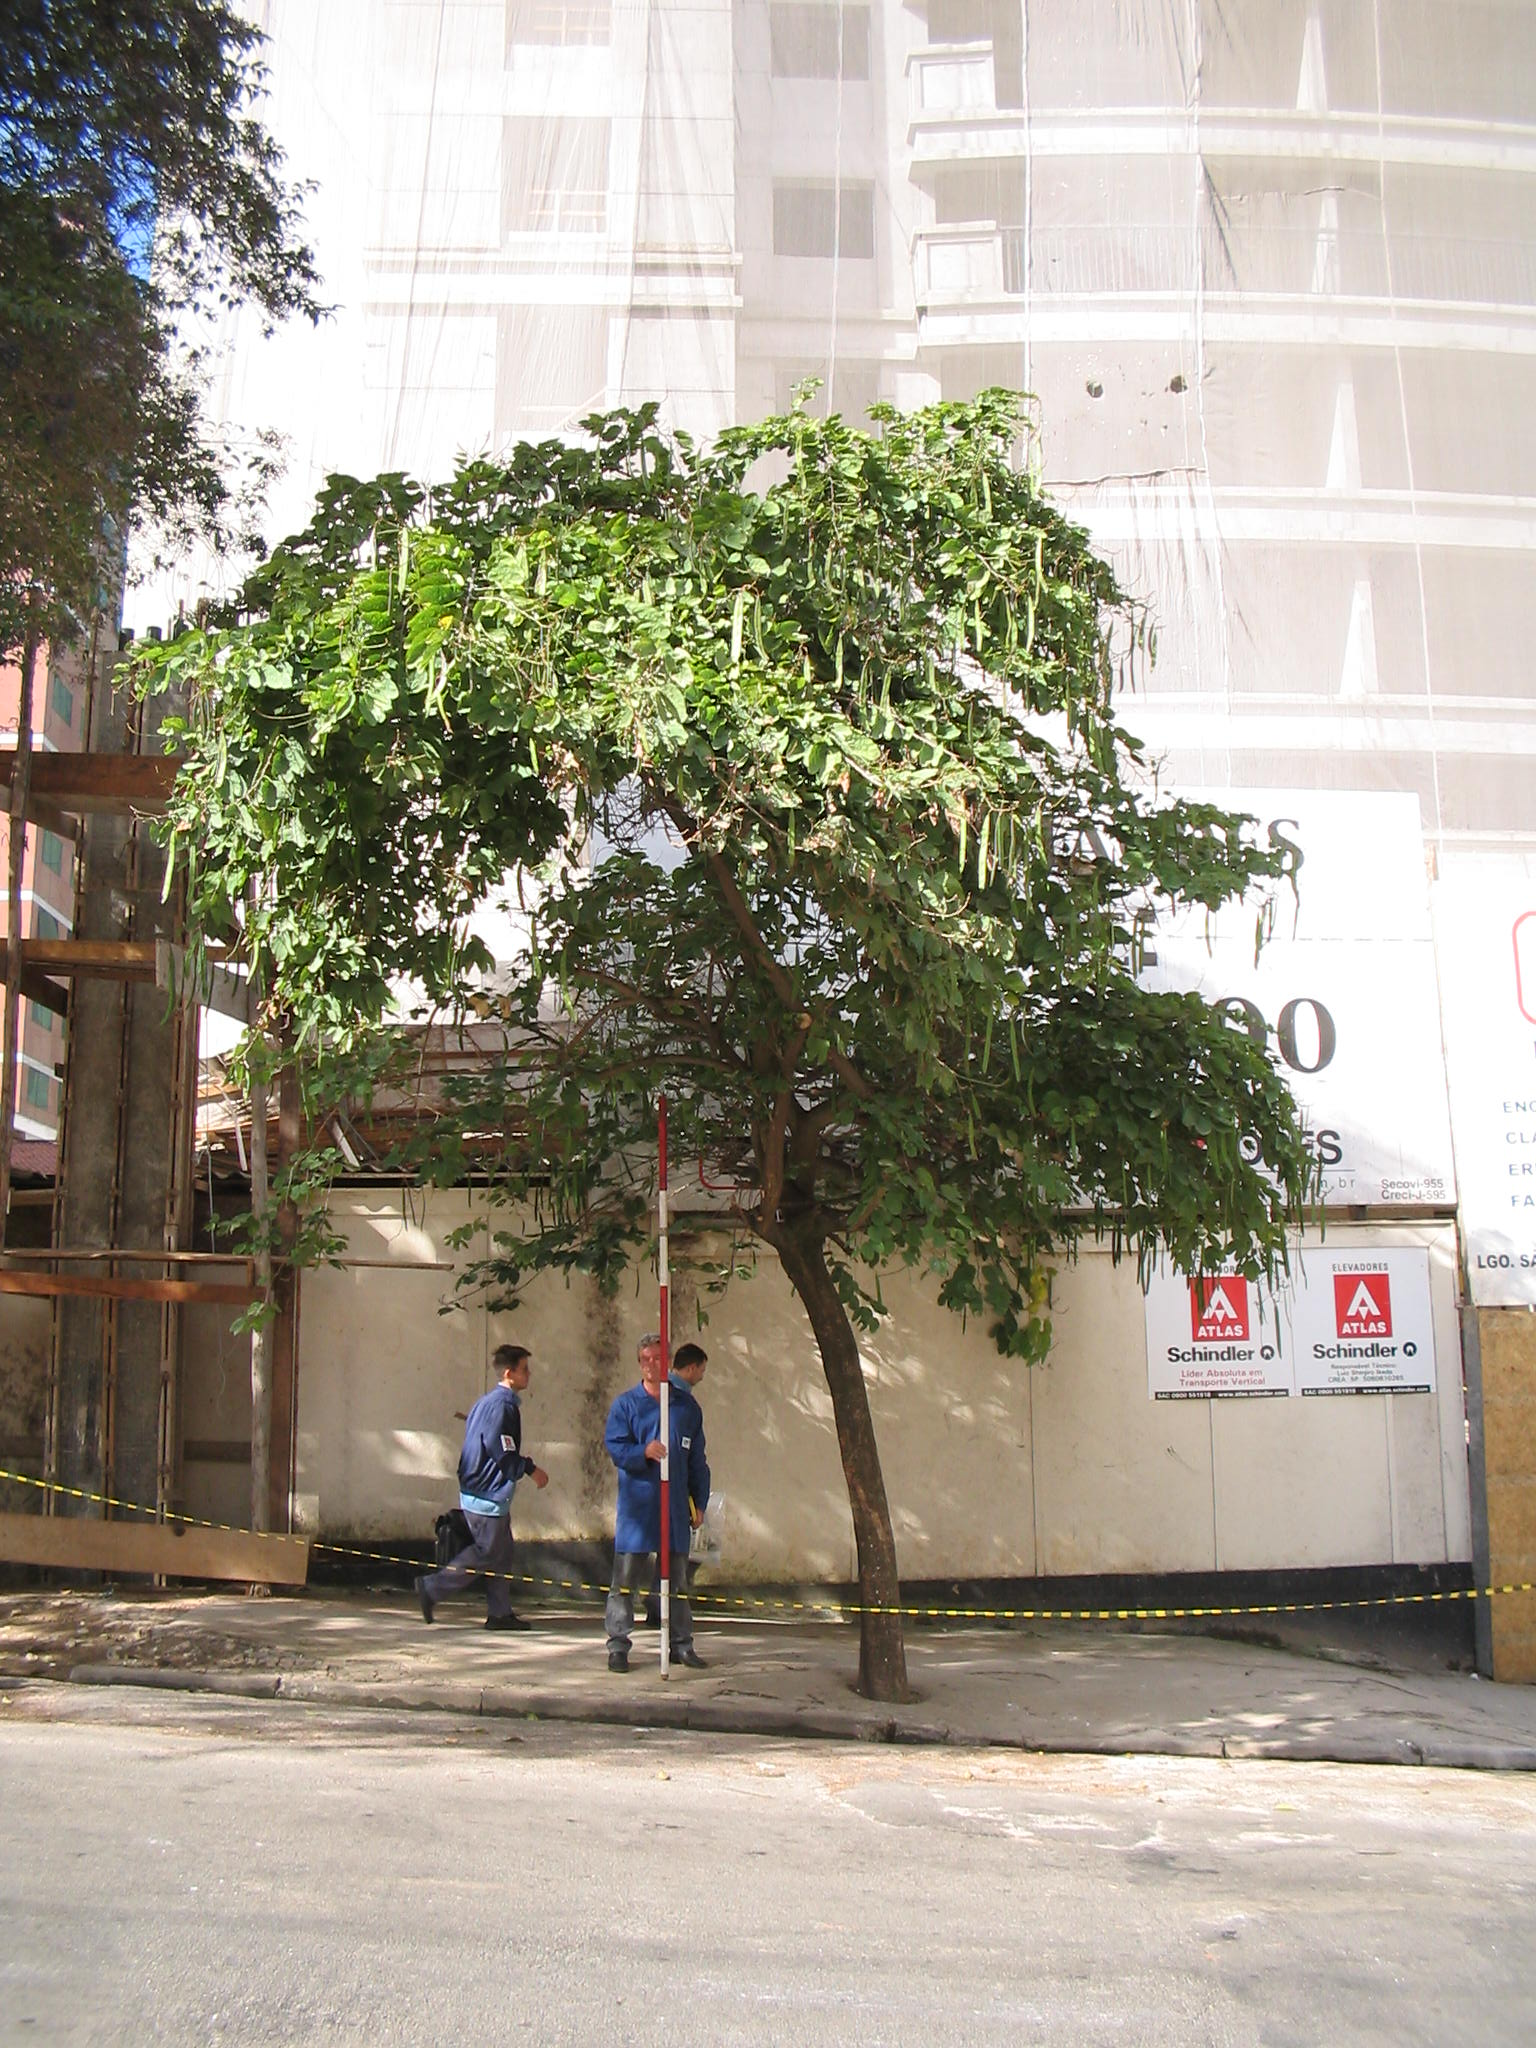crown: (119, 384, 1320, 1355)
stem: (750, 1271, 978, 1703)
stick: (632, 1092, 700, 1684)
tree: (115, 374, 1326, 1696)
